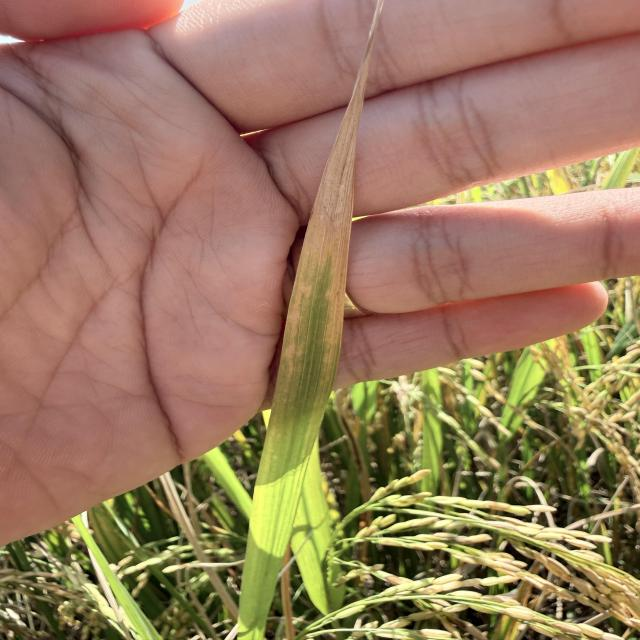Chay bia la: (283, 0, 385, 373)
